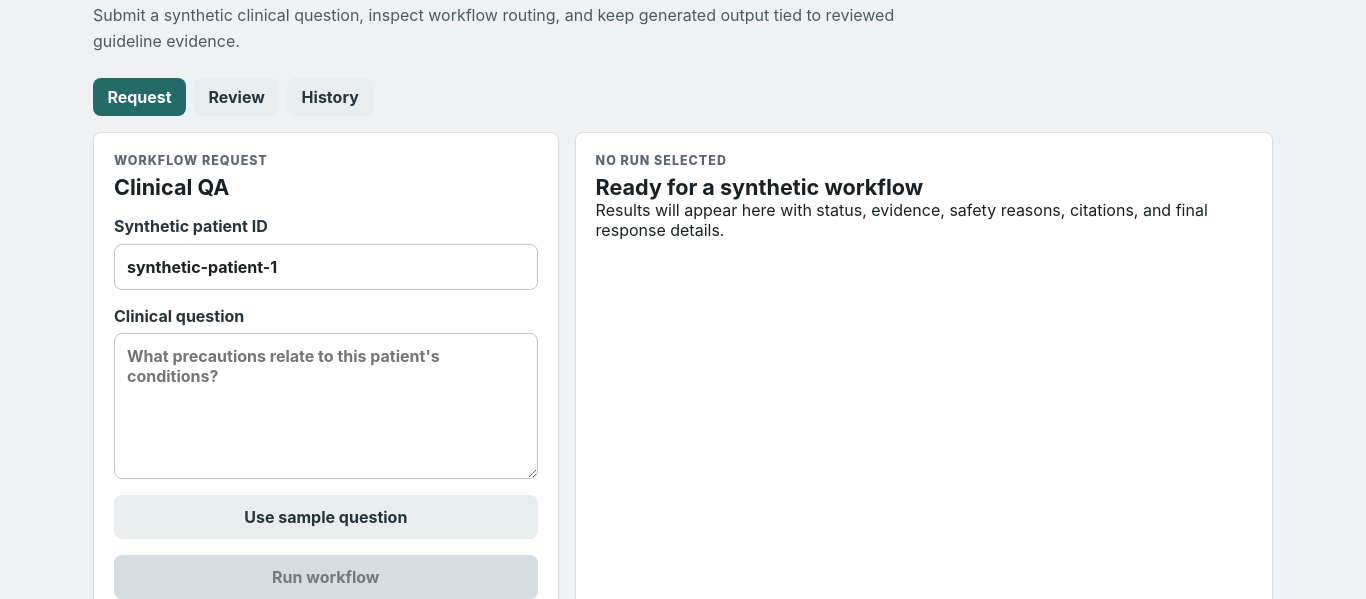
App › does not submit approval for pre-generation reviews without a draft
Click the button "Review" at {"x": 237, "y": 97}, box [194, 78, 279, 116]
(page scrolled)
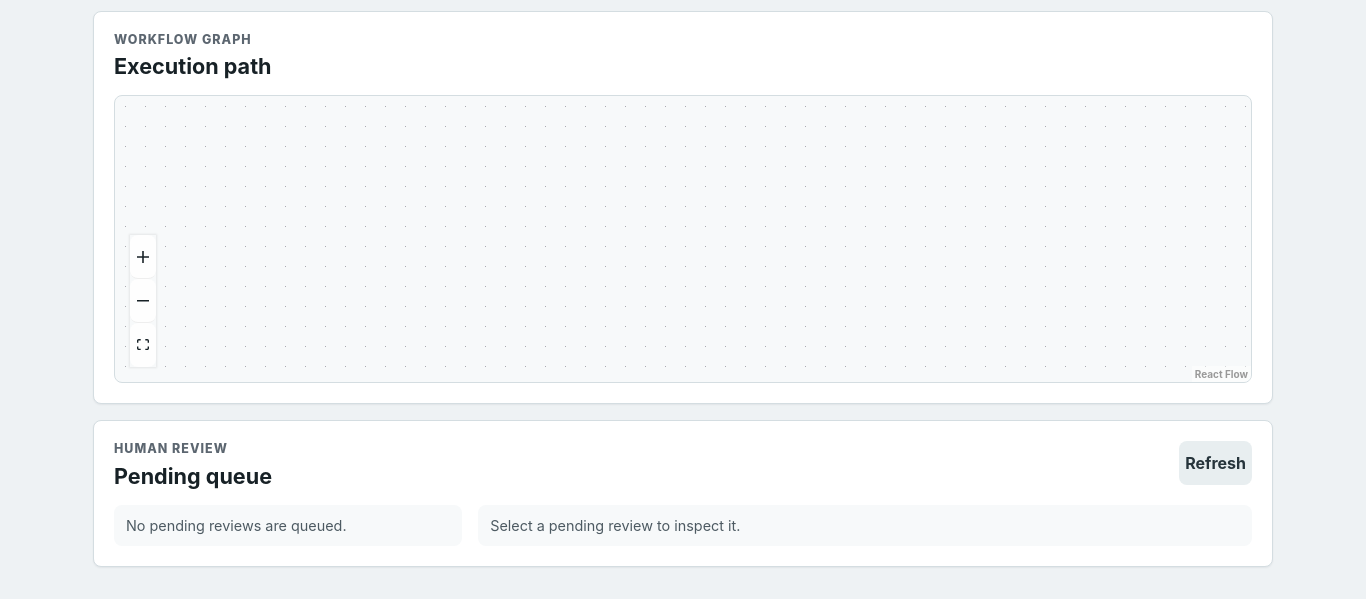
Click the button "Refresh" at {"x": 1216, "y": 463}, box [1179, 441, 1252, 485]
(page scrolled)
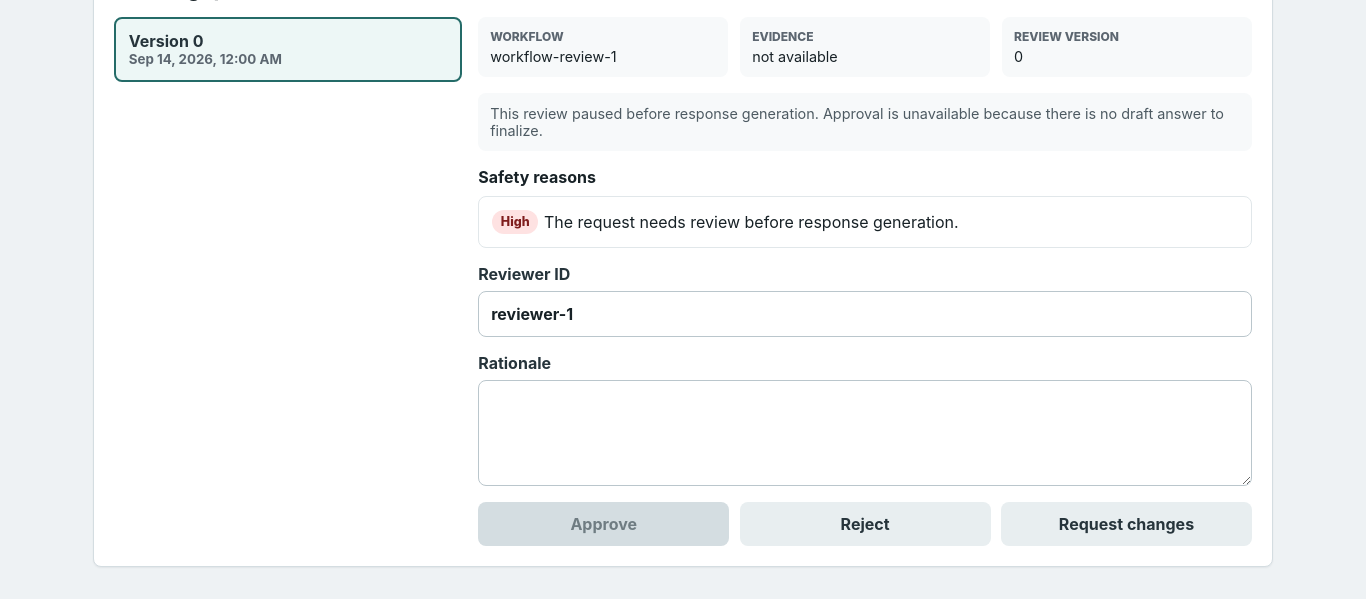
Result: the text "This review paused before response generation. Approval is unavailable because there is no draft answer to finalize." is shown at [490, 104, 1224, 138]
Result: the button "Approve" is disabled at [478, 502, 729, 546]
Result: the text "The request needs review before response generation." is shown at [544, 212, 959, 232]
